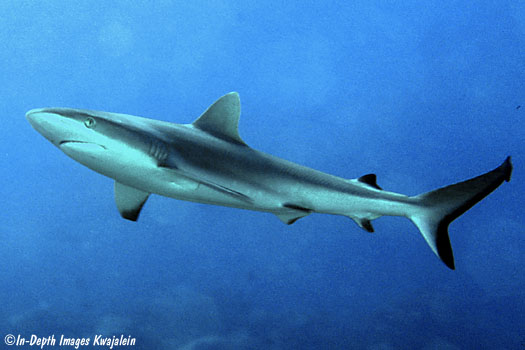Carcharhinus_amblyrhynchos: (23, 89, 514, 274)
